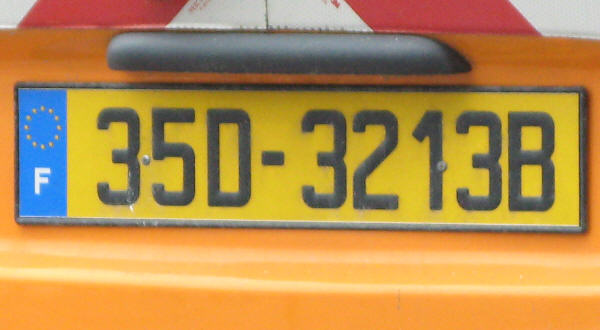license_plate: (13, 83, 587, 225)
